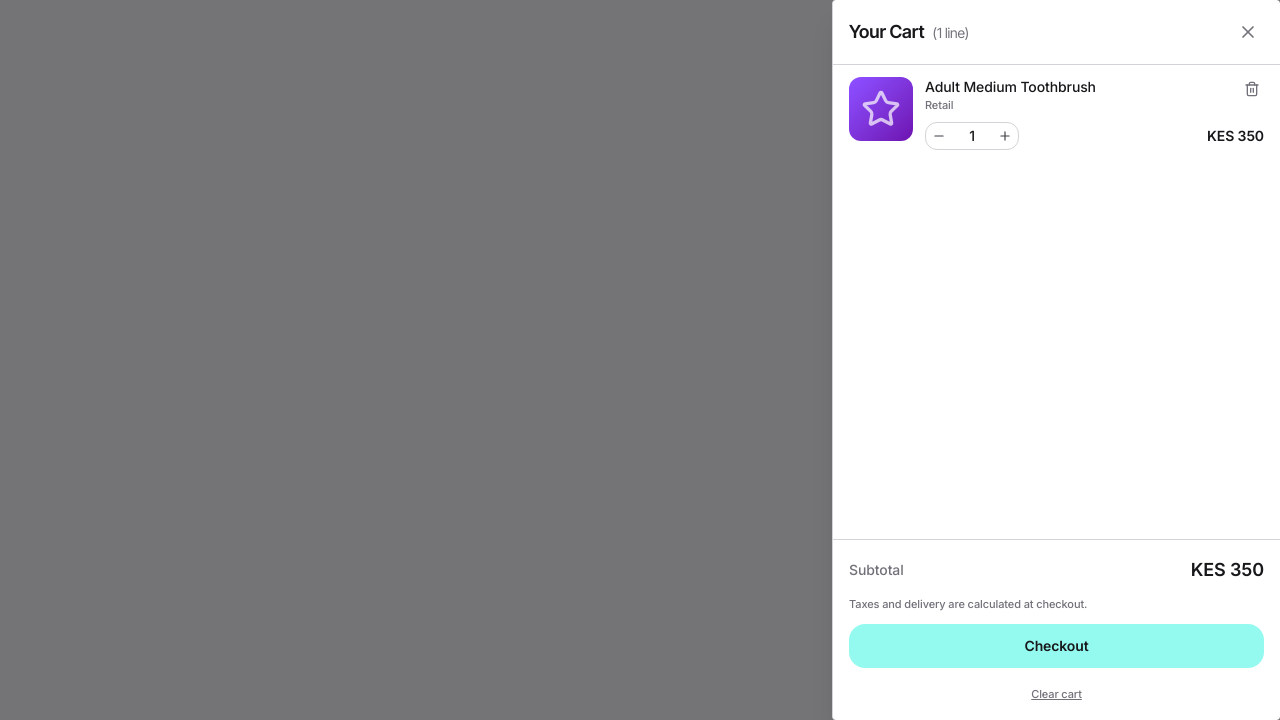
CartDrawer › removes a line when its quantity is decremented to zero
Click the button named "Decrease Adult Medium Toothbrush quantity". click: (939, 136)
box: [926,122,952,148]
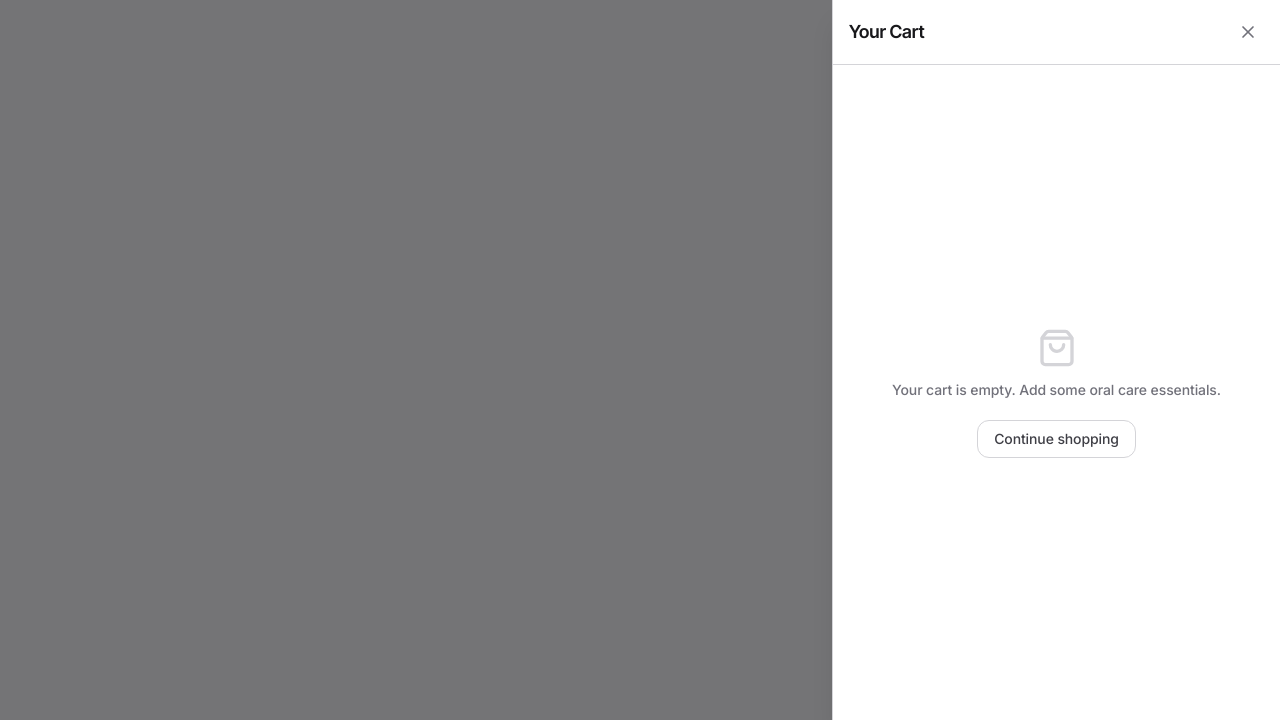
Check: the text "Your cart is empty. Add some oral care essentials." is shown, box [892,380,1221,400]
